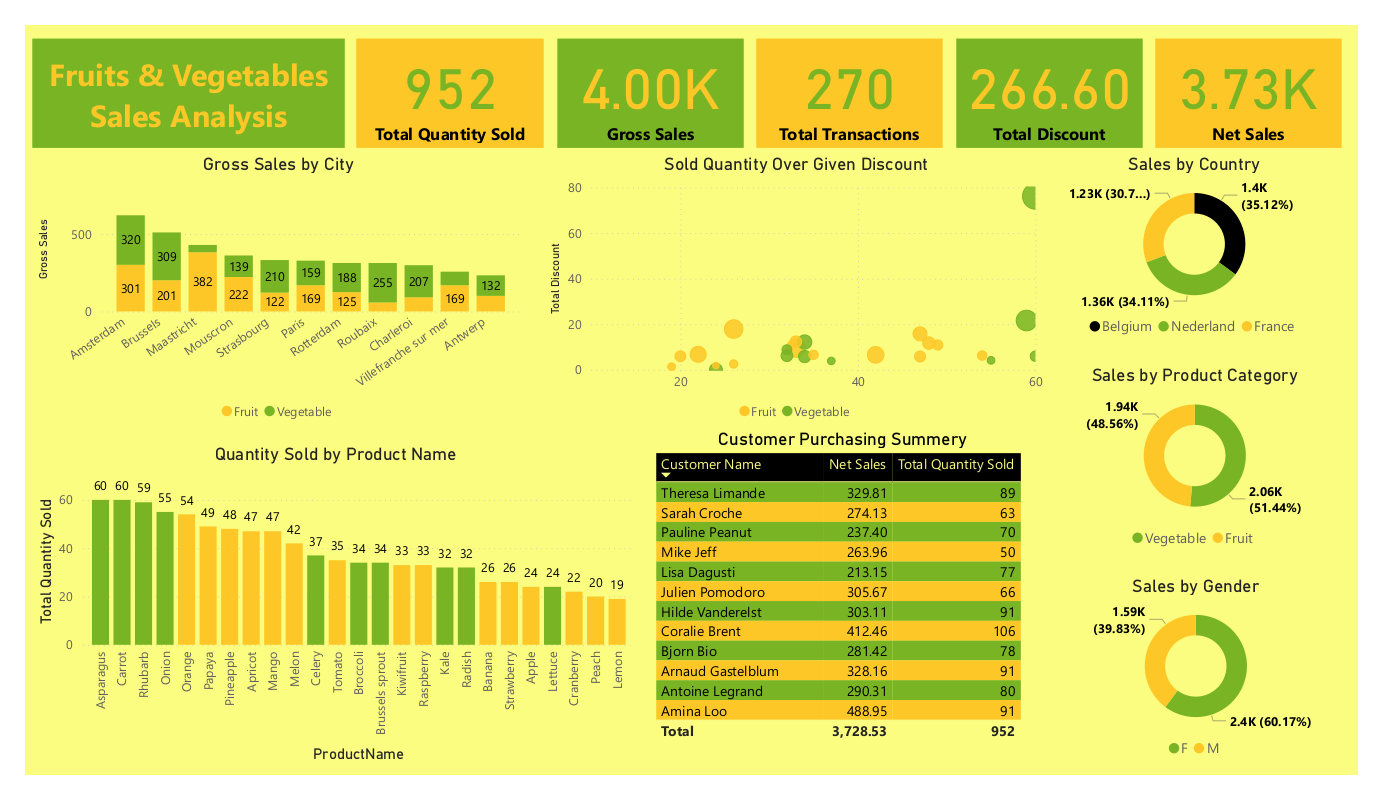

The dashboard page shown, as its layout file describes it:
{"tool":"powerbi","page":{"name":"Fruits and Vegetable Sales Analysis","canvas":[1280,720],"ordinal":0},"visuals":[{"type":"card","fields":{"Values":["Measures Table.Net Sales"]},"box":[1085.1,13.3,179.1,105],"z":0},{"type":"card","fields":{"Values":["Measures Table.Gross Sales"]},"box":[510.6,13.3,179.1,105],"z":1000},{"type":"card","fields":{"Values":["Measures Table.Total Quantity Sold"]},"box":[318.3,13.3,180,105],"z":2000},{"type":"card","fields":{"Values":["Measures Table.Total Transactions"]},"box":[702.1,13.3,179.1,105],"z":3000},{"type":"card","fields":{"Values":["Measures Table.Total Discount"]},"box":[893.6,13.3,179.1,105],"z":4000},{"type":"donutChart","title":"Sales by Gender","fields":{"Y":["Measures Table.Gross Sales"],"Category":["Customer Details.Gender"]},"box":[983.3,528.3,281.7,185],"z":5000},{"type":"donutChart","title":"Sales by Product Category","fields":{"Y":["Measures Table.Gross Sales"],"Category":["Product Details.ProductCategory"]},"box":[983.3,325.8,280,185],"z":6000},{"type":"donutChart","title":"Sales by Country","fields":{"Y":["Measures Table.Gross Sales"],"Category":["Customer Details.Country"]},"box":[981.7,123.3,281.7,185],"z":7000},{"type":"columnChart","title":"Quantity Sold by Product Name","fields":{"Category":["Product Details.ProductName"],"Y":["Measures Table.Total Quantity Sold"]},"box":[6.7,401.7,583.3,311.7],"z":8000},{"type":"columnChart","title":"Gross Sales by City ","fields":{"Category":["Customer Details.City"],"Y":["Measures Table.Gross Sales"],"Series":["Product Details.ProductCategory"]},"box":[7.2,122.9,472.8,266],"z":9000},{"type":"scatterChart","title":"Sold Quantity Over Given Discount","fields":{"X":["Measures Table.Total Quantity Sold"],"Y":["Measures Table.Total Discount"],"Category":["Product Details.ProductName"],"Size":["Sum(Sales.UnitPrice)"],"Series":["Product Details.ProductCategory"]},"box":[498.8,122.9,482.9,266],"z":10000},{"type":"tableEx","title":"Customer Purchasing Summery","fields":{"Values":["Customer Details.CustomerFullName","Measures Table.Net Sales","Measures Table.Total Quantity Sold"]},"box":[600,387.5,370.1,318.1],"z":11000},{"type":"shape","box":[6.7,13.3,300,105],"z":12000}]}

Visuals, with their boxes in screenshot pixels (x1, y1, x2, y2), scaled from the page's 1280x720 canvas onto the 1383x800 screenshot:
card - Measures Table.Net Sales: (1172,15,1366,131)
card - Measures Table.Gross Sales: (552,15,745,131)
card - Measures Table.Total Quantity Sold: (344,15,538,131)
card - Measures Table.Total Transactions: (759,15,952,131)
card - Measures Table.Total Discount: (966,15,1159,131)
"Sales by Gender" donutChart: (1062,587,1367,793)
"Sales by Product Category" donutChart: (1062,362,1365,568)
"Sales by Country" donutChart: (1061,137,1365,343)
"Quantity Sold by Product Name" columnChart: (7,446,637,793)
"Gross Sales by City " columnChart: (8,137,519,432)
"Sold Quantity Over Given Discount" scatterChart: (539,137,1061,432)
"Customer Purchasing Summery" tableEx: (648,431,1048,784)
shape: (7,15,331,131)
